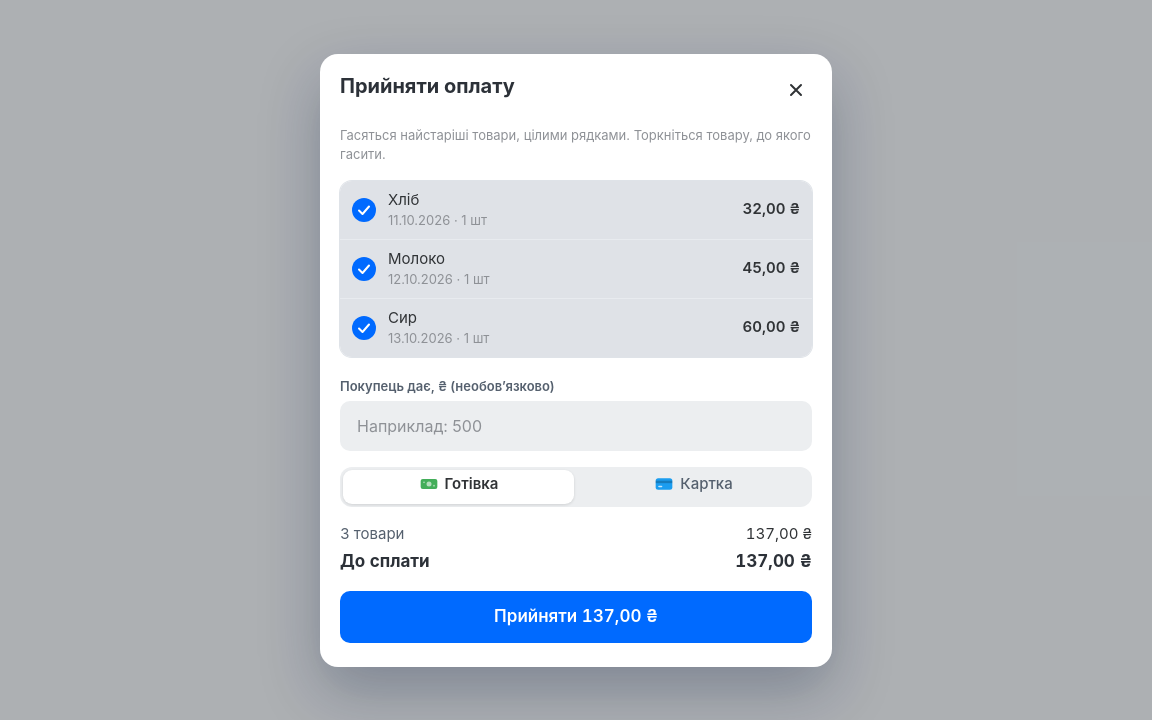
Test: PaySheet › starts a new receipt after ПРРО undid one, and asks again with the same after no answer
Click the button "Прийняти 137,00 ₴".
click(576, 616)  # box [340,590,812,642]
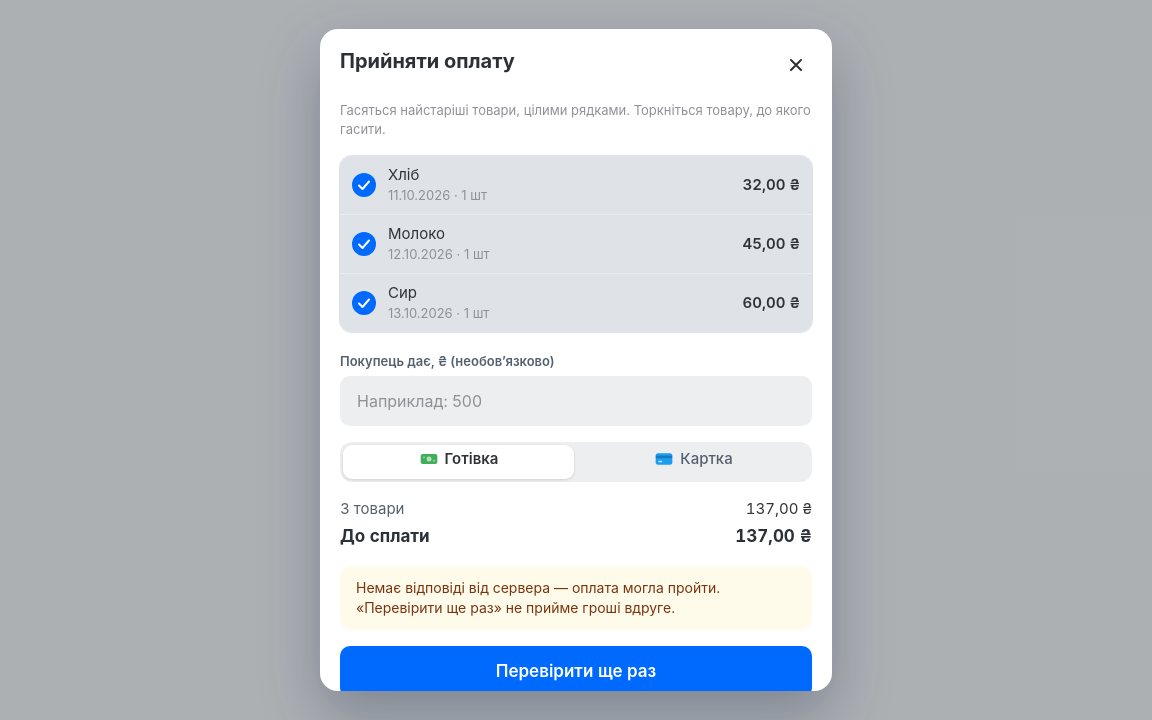
# Nothing came back: the button now checks rather than charges.
Click the button "Перевірити ще раз".
click(576, 672)  # box [340,646,812,698]
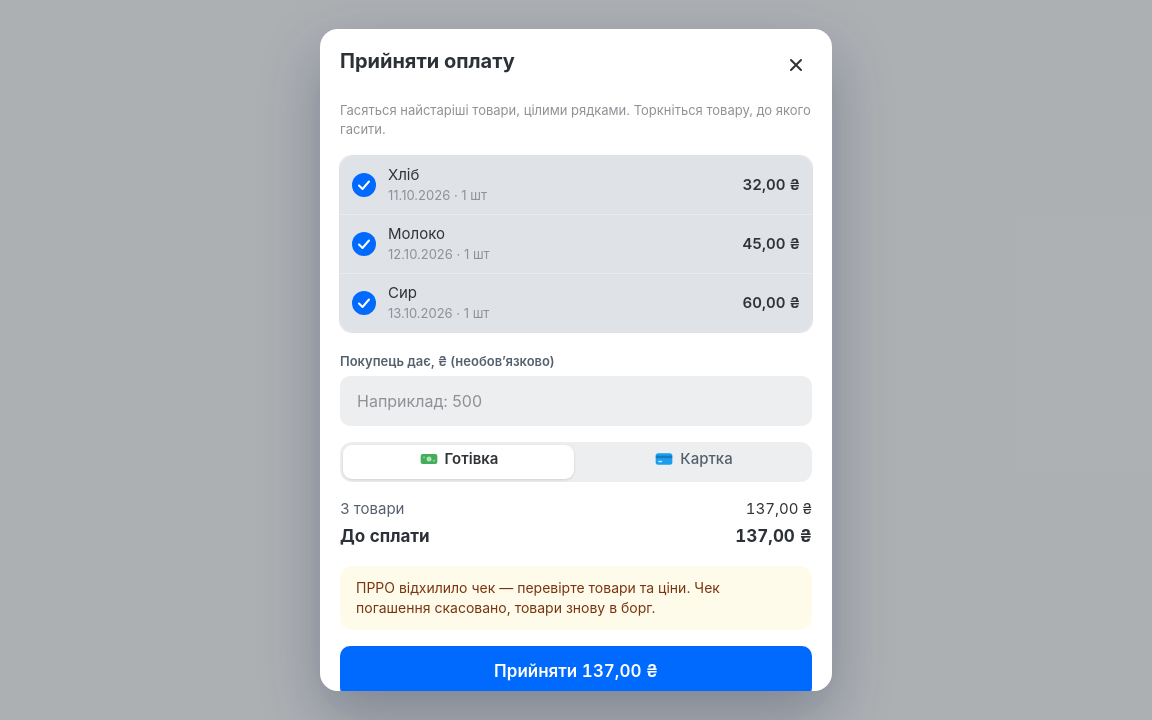
expect the message with test id "debts-pay-error" shows "товари знову в борг": met, box [356,579,720,616]
Click the button "Прийняти 137,00 ₴".
click(576, 672)  # box [340,646,812,698]
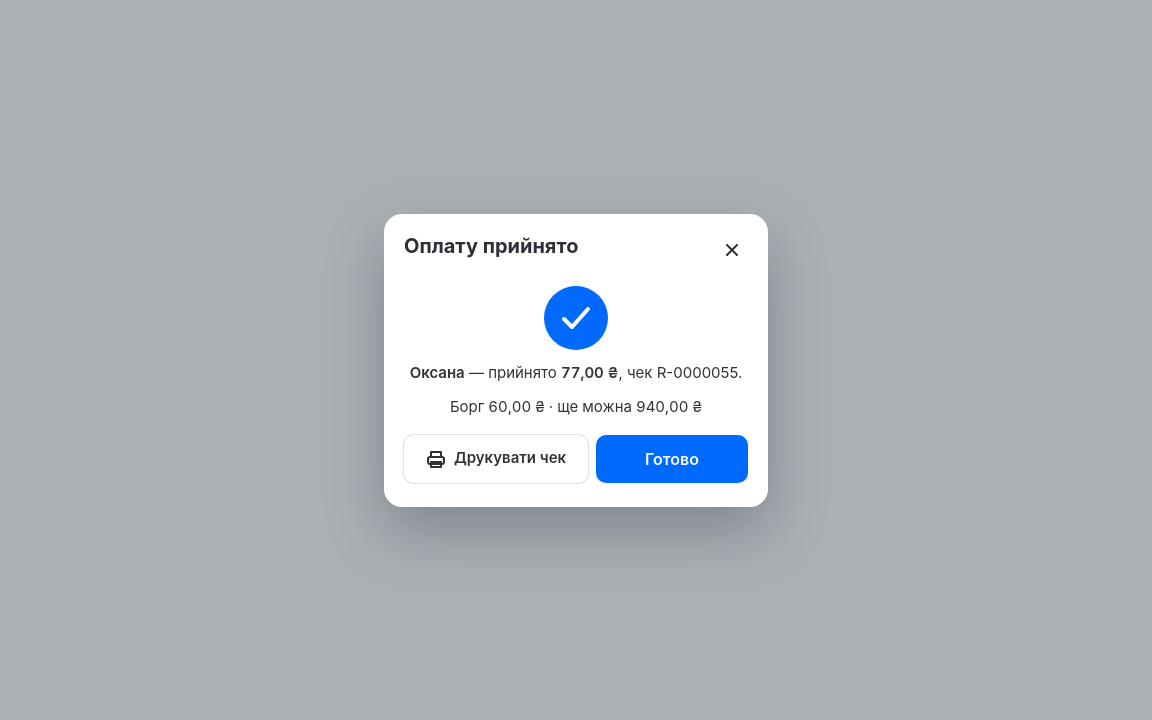
expect the dialog with test id "debts-pay-done" is shown: met, box [384,214,768,506]
